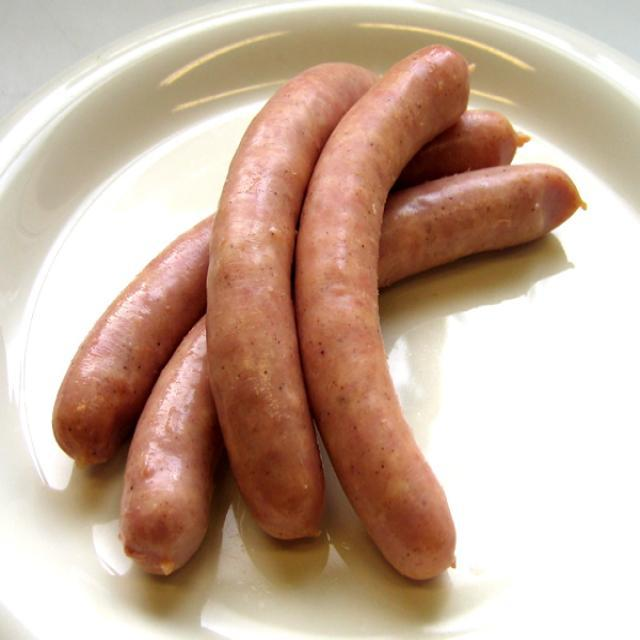Sausage: (60, 31, 592, 593)
